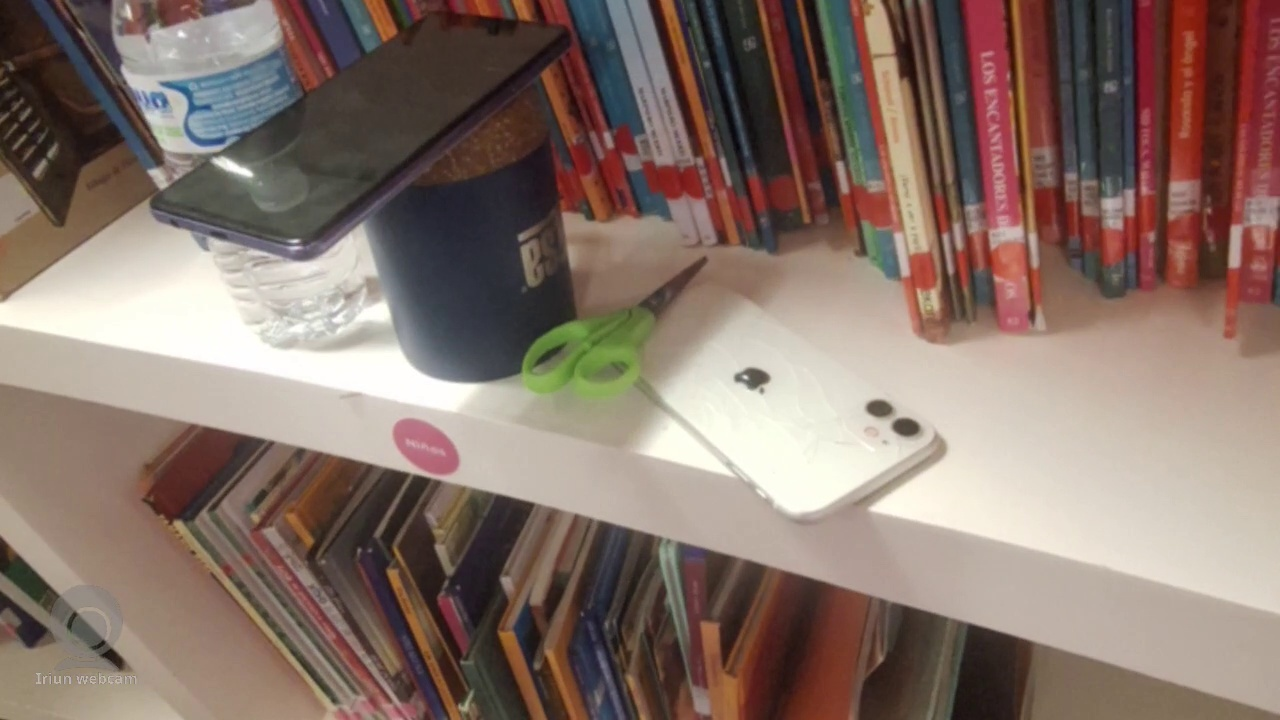botella: (110, 1, 302, 155)
taza: (359, 76, 578, 384)
